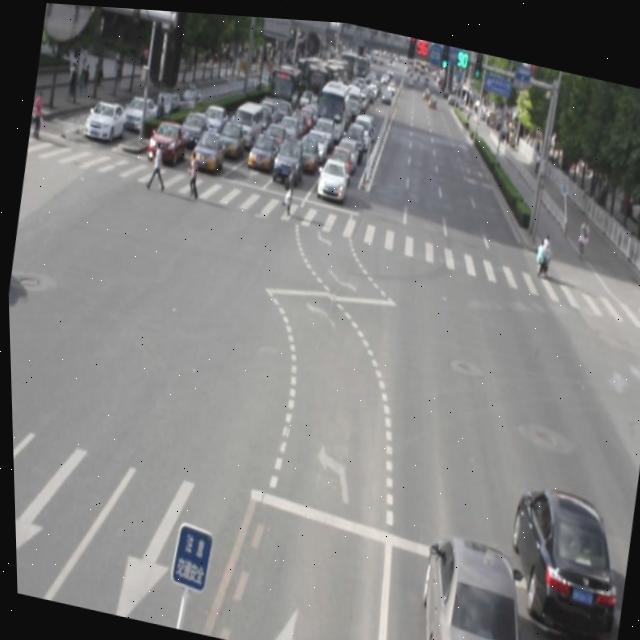car: (494, 473, 627, 632), (405, 520, 535, 640)
